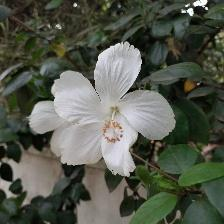hibiscus: (54, 43, 175, 178)
